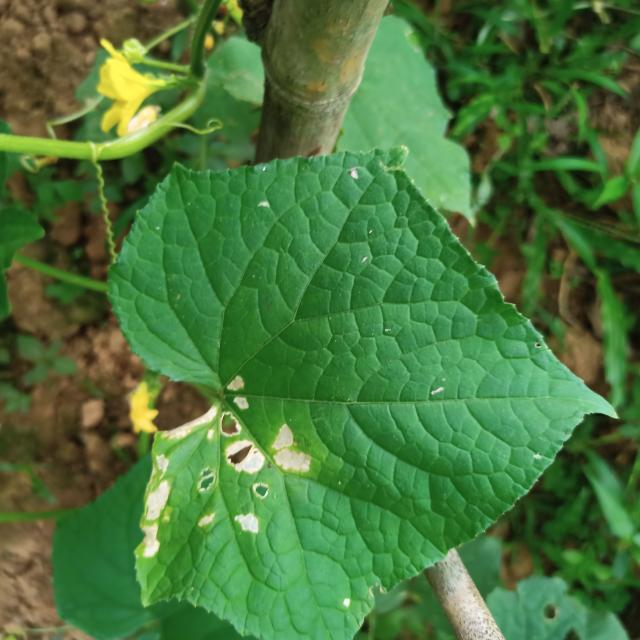disease_cucumber: (140, 375, 311, 559)
